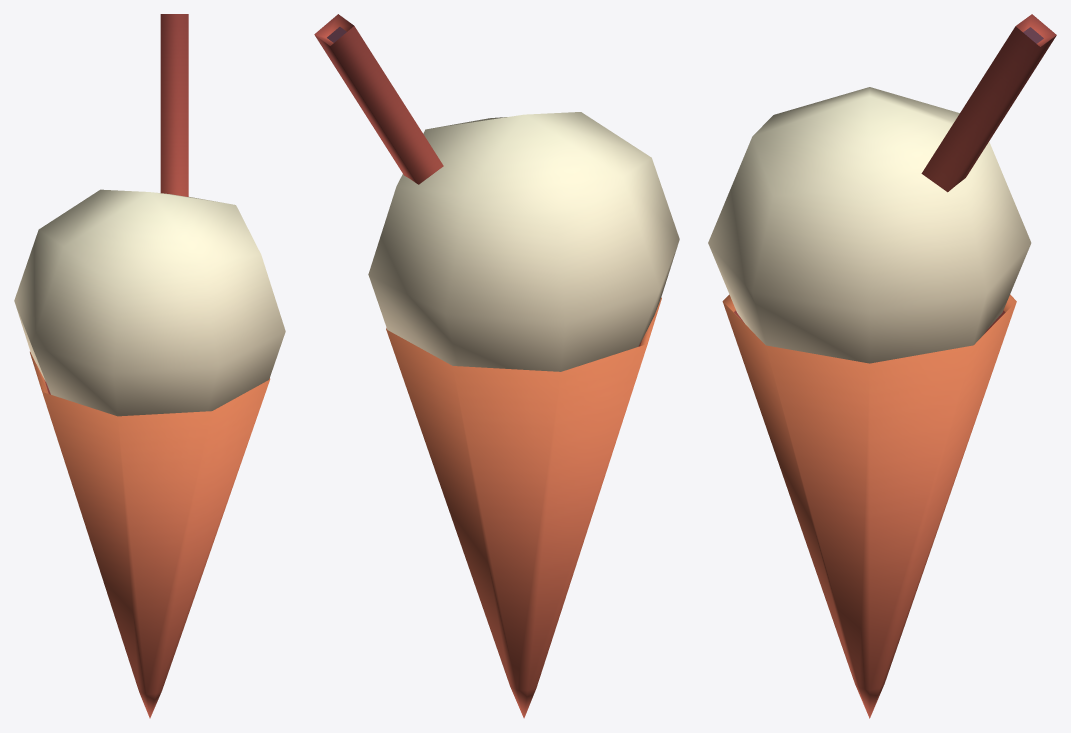
Rendered from IceCream01Var1.fbx.
The picture shows the model from 3 angles, left to right: view 1: azimuth 30°, elevation 25°; view 2: azimuth 150°, elevation 25°; view 3: azimuth 270°, elevation 25°; orthographic projection. The views are drawn at different scales.
Visible parts, largest first — view 1: IceCreamVar1a; view 2: IceCreamVar1a; view 3: IceCreamVar1a.
Part boxes in pixels (x1=…): IceCreamVar1a: x1=14, y1=14, x2=285, y2=718; IceCreamVar1a: x1=314, y1=14, x2=679, y2=718; IceCreamVar1a: x1=708, y1=14, x2=1056, y2=718.
Bounding box in the file's own units: 0.1098 × 0.1184 × 0.2811.
